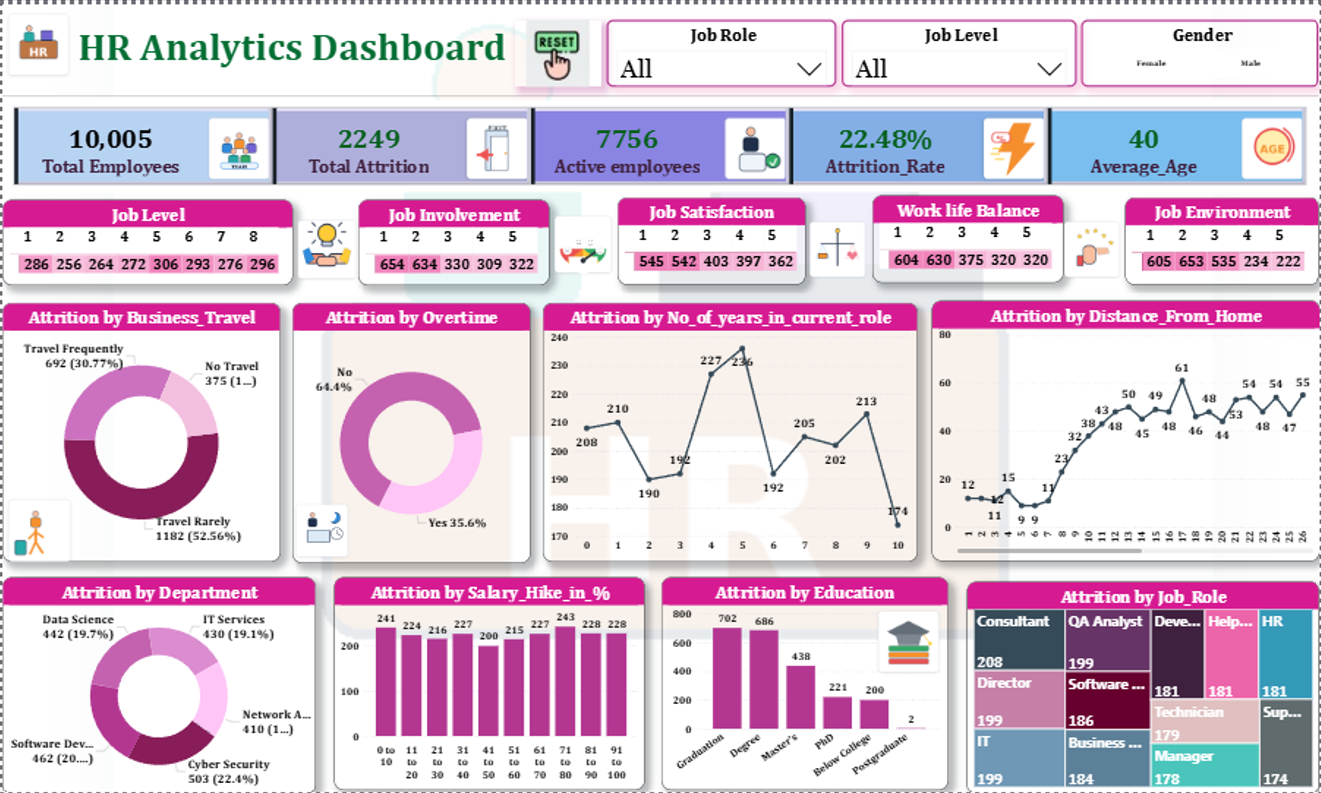

What the dashboard file says about the page in this screenshot:
{"tool":"powerbi","page":{"name":"Page 1","canvas":[2000,1200],"ordinal":0},"visuals":[{"type":"cardVisual","fields":{"Data":["CountNonNull(Employees.Employee_ID)","Employees.Attrition_Yes","Employees.Attrition_No","Employees.Attrition_Rate","Employees.Average_Age"]},"box":[0,132.4,1999.2,157.9],"z":0},{"type":"donutChart","title":"Attrition by Department","fields":{"Category":["Employees.Department"],"Y":["Employees.Attrition_Yes"]},"box":[0,869.2,475.7,330.8],"z":1000},{"type":"treemap","title":"Attrition by Job_Role","fields":{"Group":["Employees.Job_Role"],"Values":["Employees.Attrition_Yes"]},"box":[1463.2,876.5,536,323.5],"z":2000},{"type":"lineChart","title":"Attrition by Distance_From_Home","fields":{"Category":["Employees.Distance_From_Home"],"Y":["Employees.Attrition_Yes"]},"box":[1408.5,451.6,590.7,395.4],"z":3000},{"type":"donutChart","title":"Attrition by Overtime","fields":{"Category":["Employees.Overtime"],"Y":["Employees.Attrition_Yes"]},"box":[441,454,361.3,395.4],"z":4000},{"type":"pivotTable","title":"Job Satisfaction","fields":{"Columns":["Employees.Job_Satisfaction"],"Values":["Employees.Attrition_Yes"]},"box":[932.1,292.9,285.2,132.4],"z":5000},{"type":"pivotTable","title":"Job Environment","fields":{"Values":["Employees.Attrition_Yes"],"Columns":["Employees.Environment_Satisfaction"]},"box":[1703.7,292.9,295.4,132.4],"z":6000},{"type":"pivotTable","title":"Work life Balance","fields":{"Values":["Employees.Attrition_Yes"],"Columns":["Employees.Work_life_balance"]},"box":[1319.2,290.3,290.3,132.4],"z":7000},{"type":"donutChart","title":"Attrition by Business_Travel","fields":{"Category":["Employees.Business_Travel"],"Y":["Employees.Attrition_Yes"]},"box":[0,454,422.3,393],"z":8000},{"type":"lineChart","title":"Attrition by No_of_years_in_current_role","fields":{"Category":["Employees.No_of_years_in_current_role"],"Y":["Employees.Attrition_Yes"]},"box":[821,454,568.8,393],"z":9000},{"type":"columnChart","title":"Attrition by Salary_Hike_in_%","fields":{"Y":["Employees.Attrition_Yes"],"Category":["Employees.Salary_Hike_in_percent (groups)"]},"box":[502.6,868.4,471.1,323.4],"z":10000},{"type":"columnChart","title":"Attrition by Education","fields":{"Y":["Employees.Attrition_Yes"],"Category":["Employees.Education"]},"box":[1000.7,868.4,435.5,323.4],"z":11000},{"type":"pivotTable","title":"Job Involvement","fields":{"Values":["Employees.Attrition_Yes"],"Columns":["Employees.Job_Involvement"]},"box":[539.9,298,290.3,129.9],"z":12000},{"type":"pivotTable","title":"Job Level","fields":{"Values":["Employees.Attrition_Yes"],"Columns":["Employees.Job_Level"]},"box":[0,298,440.6,129.9],"z":13000},{"type":"textbox","box":[109.5,22.9,659.6,109.5],"z":14000},{"type":"slicer","title":"Gender","fields":{"Values":["Employees.Gender"]},"box":[1637.5,22.9,361.6,101.9],"z":15000},{"type":"slicer","title":"Job Level","fields":{"Values":["Employees.Job_Level"]},"box":[1273.4,22.9,356.5,101.9],"z":16000},{"type":"slicer","title":"Job Role","fields":{"Values":["Employees.Job_Role"]},"box":[916.8,22.9,348.9,101.9],"z":17000},{"type":"image","box":[776.7,22.9,132.4,101.9],"z":18000},{"type":"image","box":[440.6,298,104.4,152.8],"z":19000},{"type":"image","box":[0,0,109.5,124.8],"z":20000},{"type":"image","box":[1209.7,323.4,114.6,99.3],"z":21000},{"type":"image","box":[1604.4,323.4,99.3,99.3],"z":22000},{"type":"image","box":[830.2,303.1,101.9,124.8],"z":23000},{"type":"image","box":[1319.2,906.6,109.5,124.8],"z":23001},{"type":"image","box":[422.8,753.8,122.2,94.2],"z":23002},{"type":"image","box":[0,728.4,112.1,140.1],"z":23003}]}

Visuals, with their boxes in screenshot pixels (x1, y1, x2, y2), scaled from the page's 2000x1200 canvas onto the 1321x793 screenshot:
cardVisual - CountNonNull(Employees.Employee_ID) x Employees.Attrition_Yes: [left=0, top=87, right=1320, bottom=192]
"Attrition by Department" donutChart: [left=0, top=574, right=314, bottom=792]
"Attrition by Job_Role" treemap: [left=966, top=579, right=1320, bottom=792]
"Attrition by Distance_From_Home" lineChart: [left=930, top=298, right=1320, bottom=560]
"Attrition by Overtime" donutChart: [left=291, top=300, right=530, bottom=561]
"Job Satisfaction" pivotTable: [left=616, top=194, right=804, bottom=281]
"Job Environment" pivotTable: [left=1125, top=194, right=1320, bottom=281]
"Work life Balance" pivotTable: [left=871, top=192, right=1063, bottom=279]
"Attrition by Business_Travel" donutChart: [left=0, top=300, right=279, bottom=560]
"Attrition by No_of_years_in_current_role" lineChart: [left=542, top=300, right=918, bottom=560]
"Attrition by Salary_Hike_in_%" columnChart: [left=332, top=574, right=643, bottom=788]
"Attrition by Education" columnChart: [left=661, top=574, right=949, bottom=788]
"Job Involvement" pivotTable: [left=357, top=197, right=548, bottom=283]
"Job Level" pivotTable: [left=0, top=197, right=291, bottom=283]
textbox: [left=72, top=15, right=508, bottom=87]
"Gender" slicer: [left=1082, top=15, right=1320, bottom=82]
"Job Level" slicer: [left=841, top=15, right=1077, bottom=82]
"Job Role" slicer: [left=606, top=15, right=836, bottom=82]
image: [left=513, top=15, right=600, bottom=82]
image: [left=291, top=197, right=360, bottom=298]
image: [left=0, top=0, right=72, bottom=82]
image: [left=799, top=214, right=875, bottom=279]
image: [left=1060, top=214, right=1125, bottom=279]
image: [left=548, top=200, right=616, bottom=283]
image: [left=871, top=599, right=944, bottom=682]
image: [left=279, top=498, right=360, bottom=560]
image: [left=0, top=481, right=74, bottom=574]
